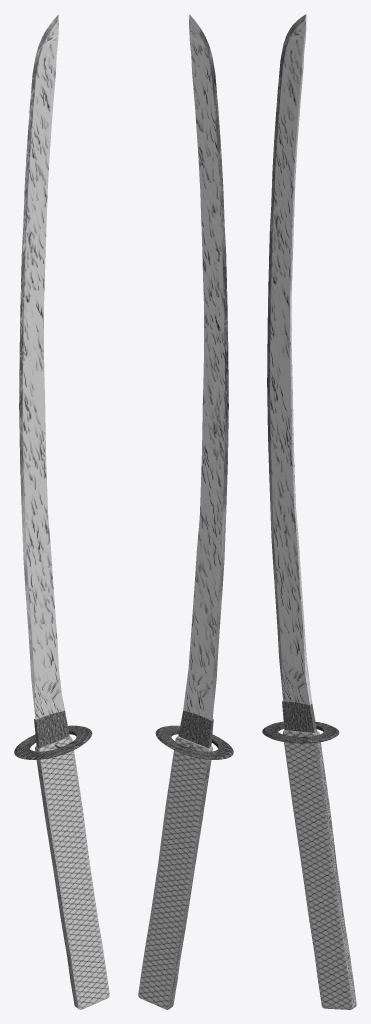
Rendered from katana_one.glb.
3 views of the same model, side by side, from view 1: azimuth 30°, elevation 25°; view 2: azimuth 150°, elevation 25°; view 3: azimuth 330°, elevation 25° (orthographic).
Parts seen in each view (by area): view 1: Katana; view 2: Katana; view 3: Katana.
Boxes of the visible parts, x1,y1,x2,y2 form: Katana: (14, 14, 109, 1009); Katana: (138, 14, 233, 1009); Katana: (262, 14, 356, 1009).
Size of the model in its own units: 0.0939 by 0.9853 by 0.048.
Materials: 1 (1 with a texture image).
